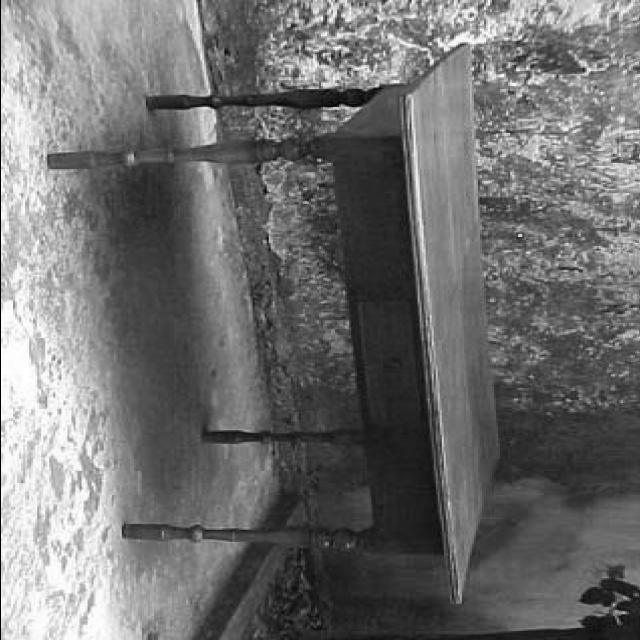table: (46, 44, 496, 606)
